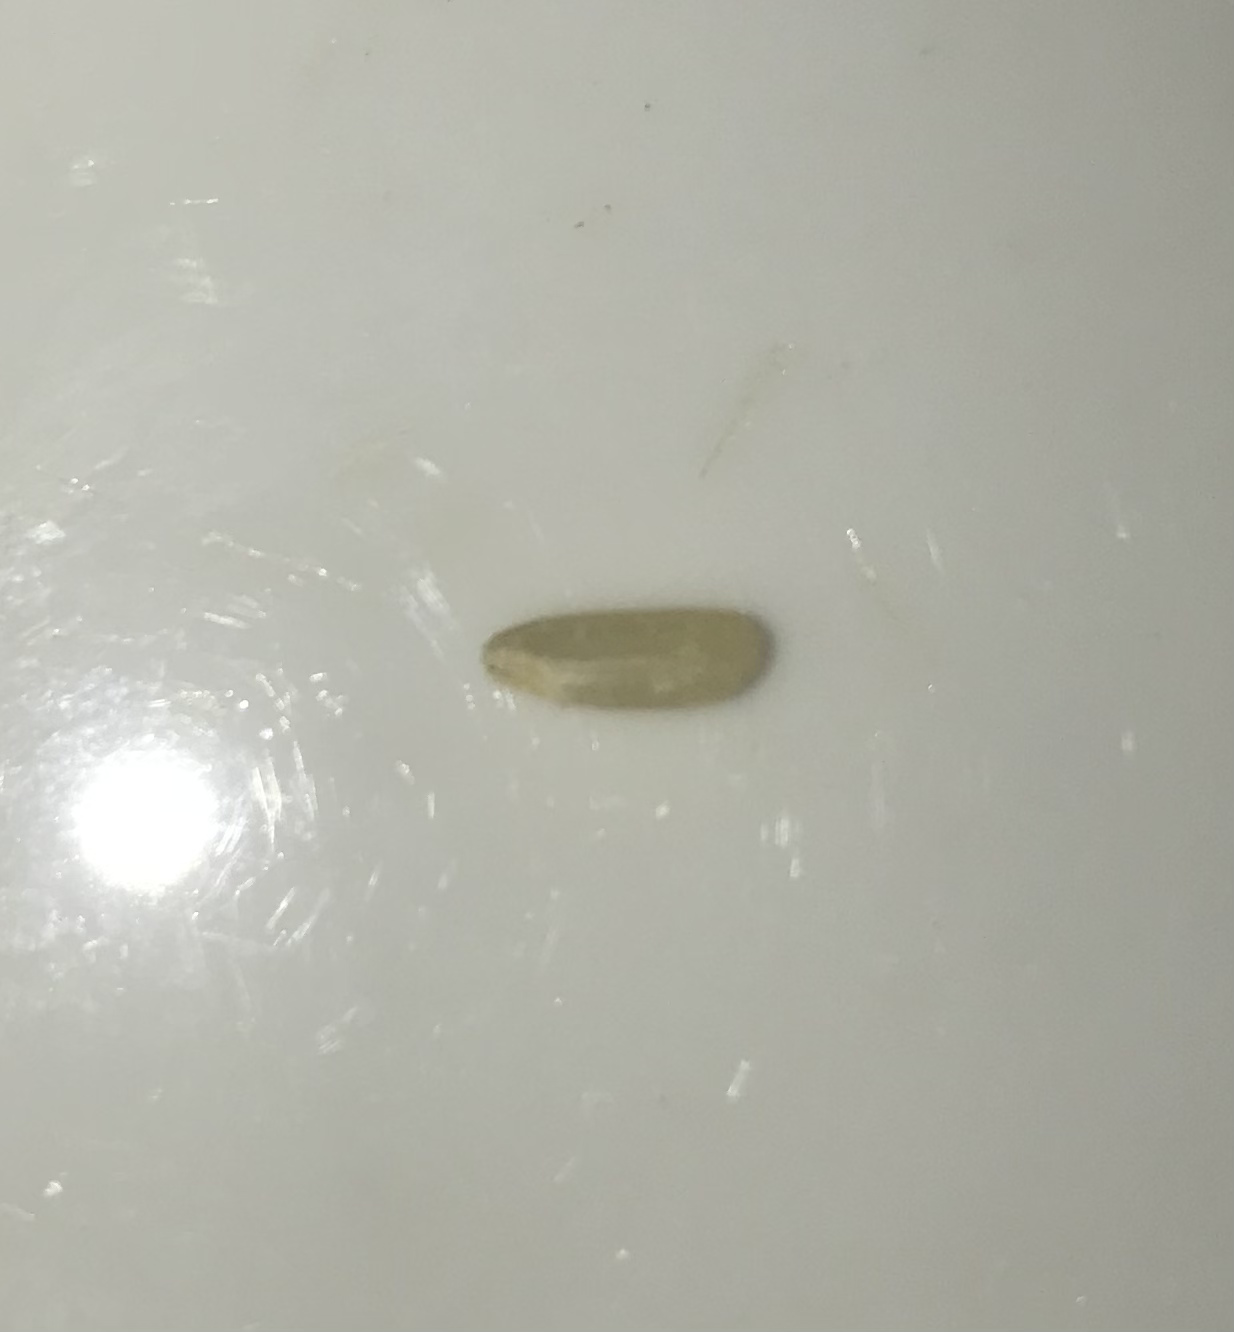Gao Lut Trang: (474, 582, 787, 752)
